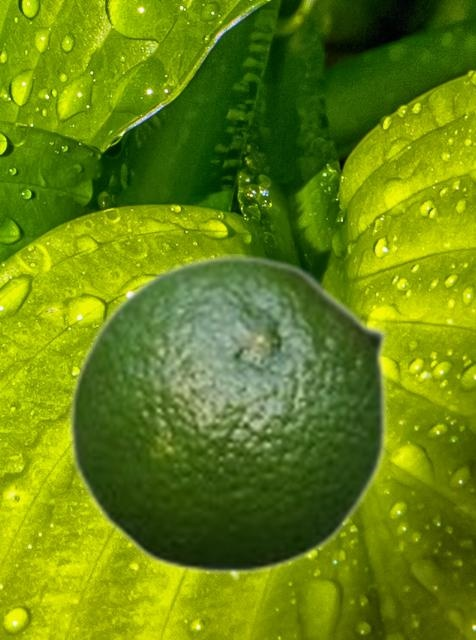calamansi: (68, 254, 389, 575)
